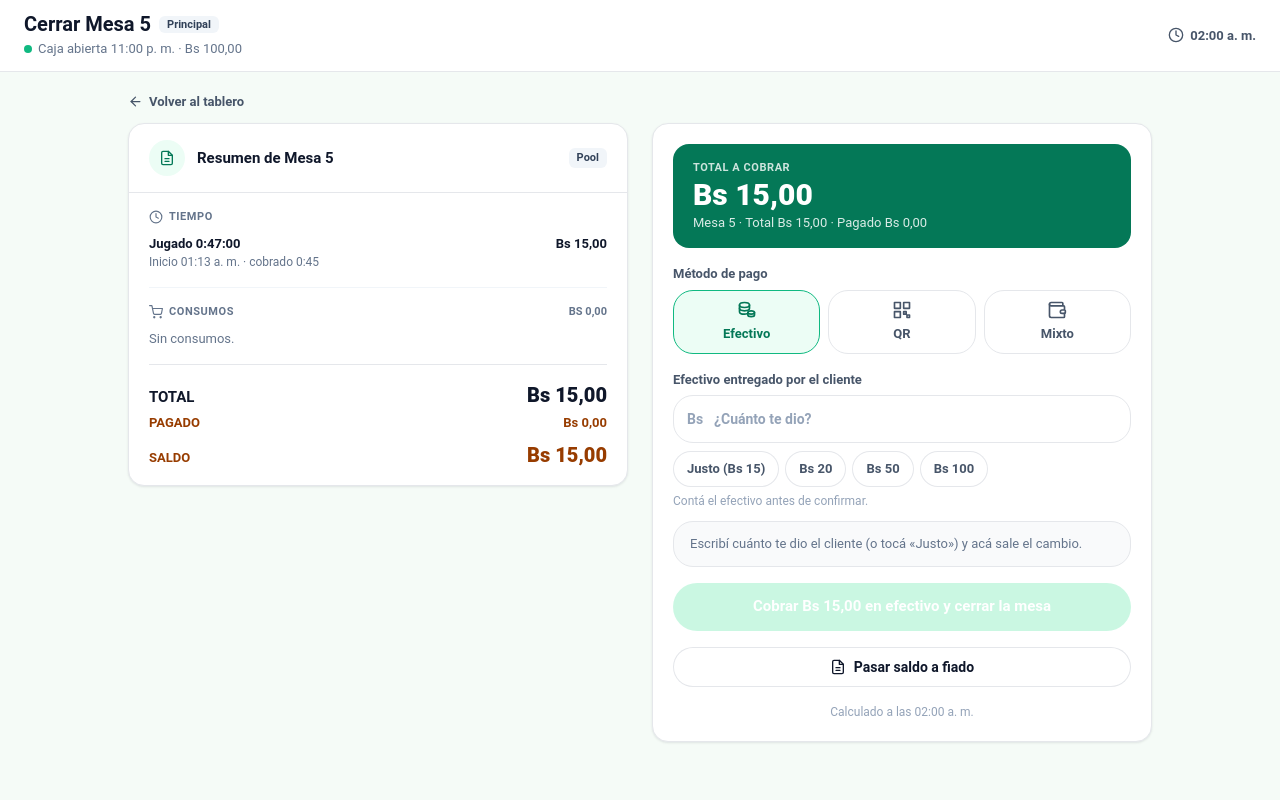
Test: Cerrar mesa con la cuenta vieja › si todavía no pagó el QR, la cuenta nueva queda para cobrar de cero
Expected: the text "Total a cobrar" is shown, top-left (693, 161), bottom-right (790, 174)
Click the radio button labelled "QR" at x=902, y=322, box top-left (828, 290), bottom-right (976, 354)
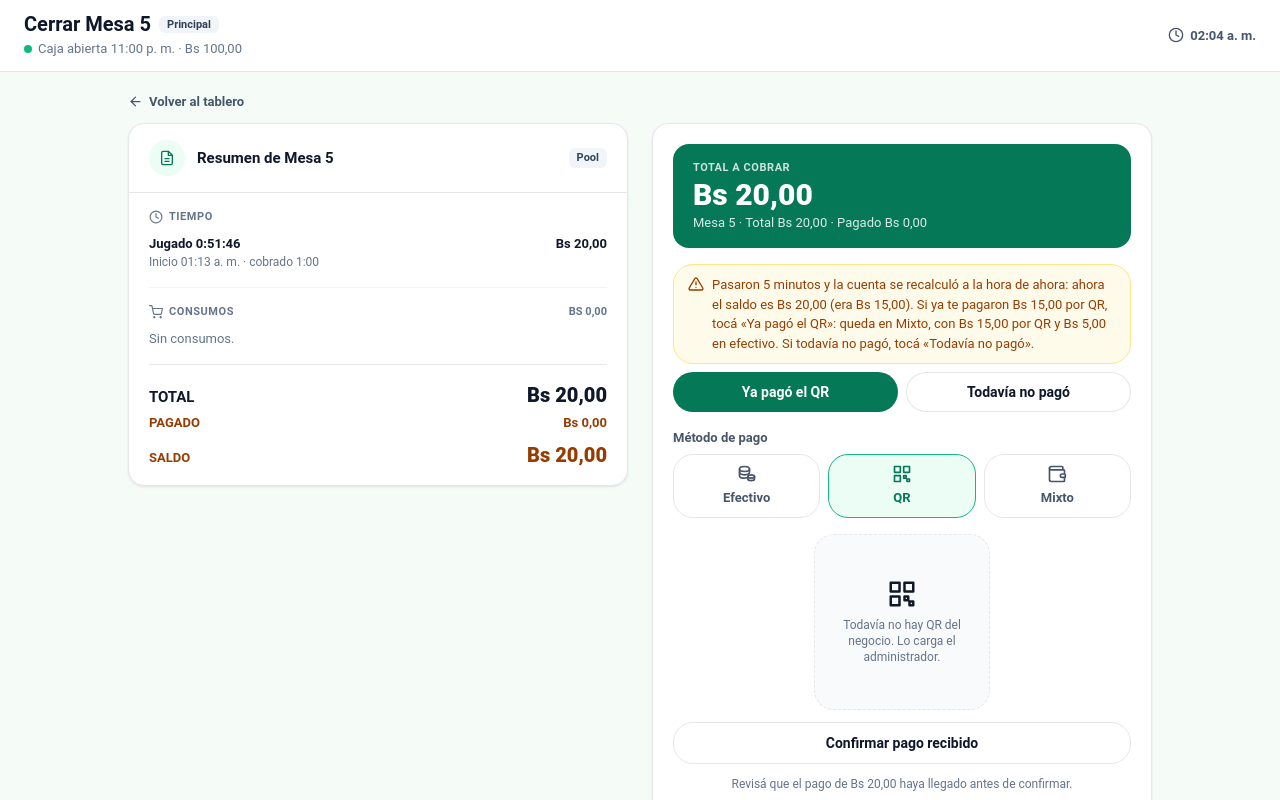
Click the button "Todavía no pagó" at x=1018, y=392, box top-left (906, 372), bottom-right (1131, 412)
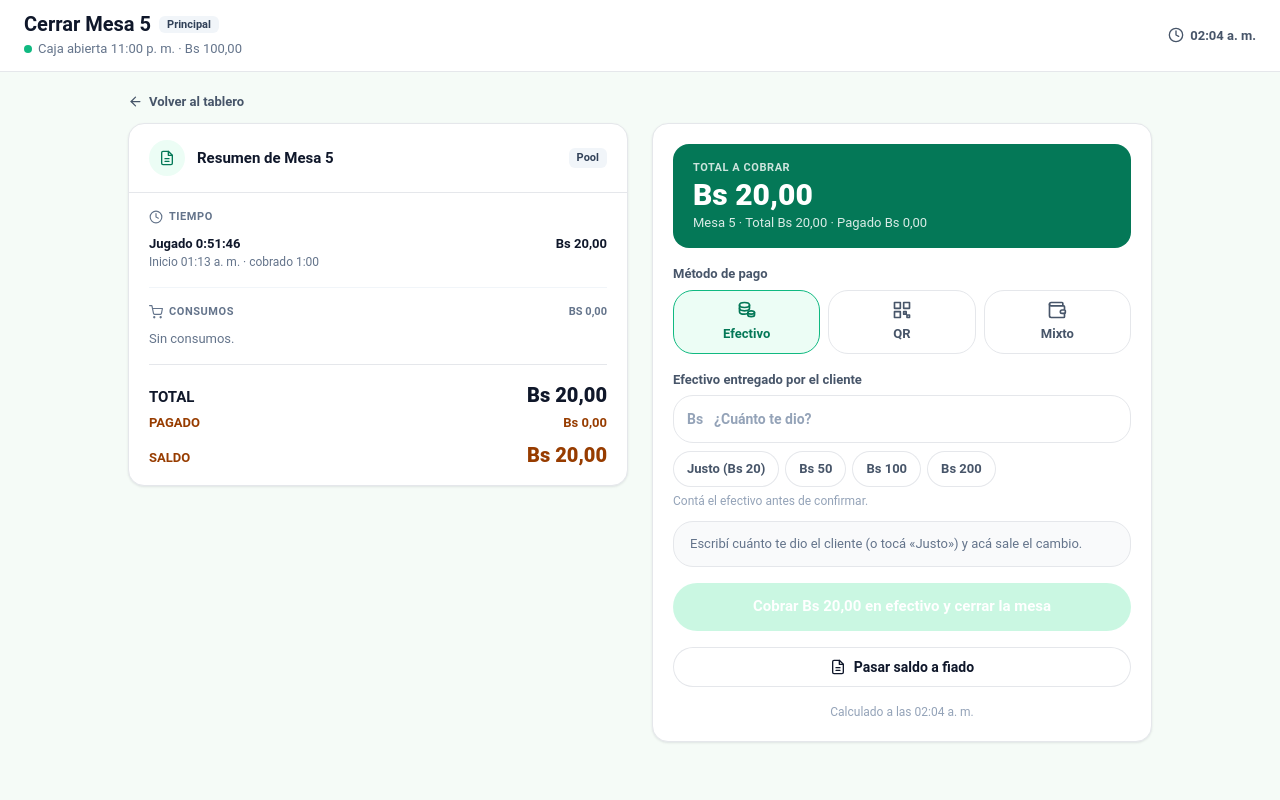
Expected: the button "Cobrar Bs 20,00 en efectivo y cerrar la mesa" is shown, top-left (673, 582), bottom-right (1131, 630)
Expected: the text "Pasaron 5 minutos" is gone
